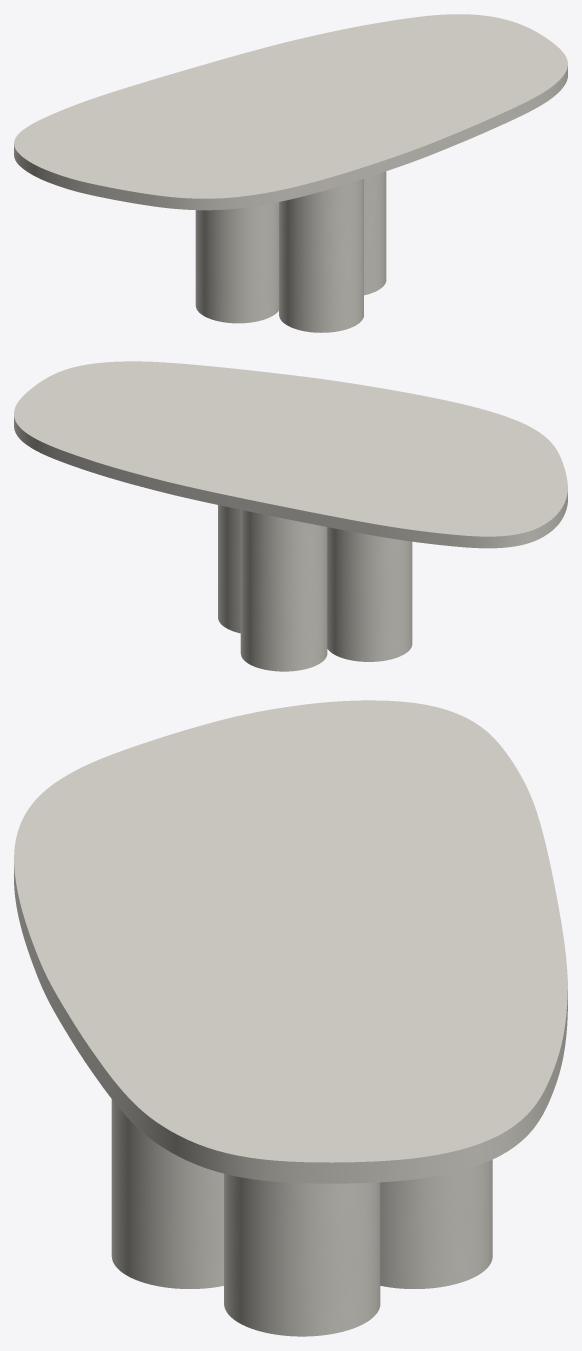
Rendered from pale_leaf2_standard_secondtable.glb.
The picture shows the model from 3 angles, top to bottom: view 1: azimuth 30°, elevation 25°; view 2: azimuth 150°, elevation 25°; view 3: azimuth 270°, elevation 25°; orthographic projection. The views are drawn at different scales.
Visible parts, largest first — view 1: standard_leaf2, secondtable; view 2: standard_leaf2, secondtable; view 3: standard_leaf2, secondtable.
Boxes of the visible parts, x1,y1,x2,y2 form: standard_leaf2: (14,14,567,210); secondtable: (195,171,386,332); standard_leaf2: (14,361,567,548); secondtable: (218,505,412,671); standard_leaf2: (14,700,567,1183); secondtable: (111,1099,492,1336).
Bounding box in the file's own units: 7.5 × 2.52 × 3.8.
Materials: 1 (1 with a texture image).
